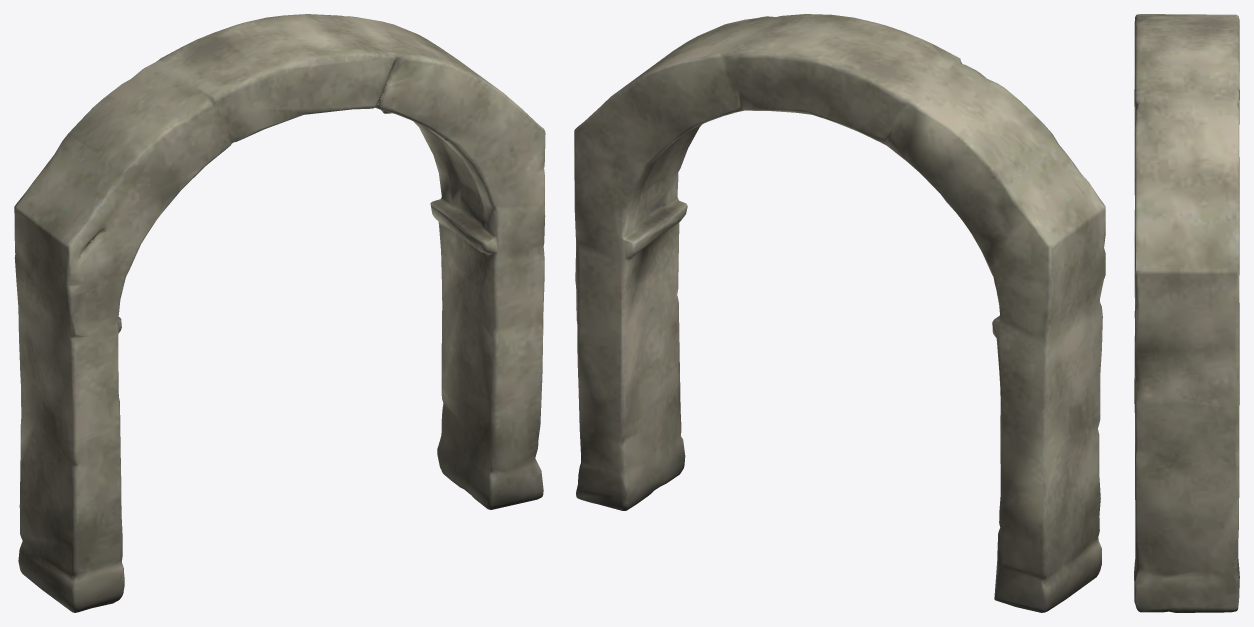
The model's file is chipped-limestone-street-arch-v001.glb.
3 views of the same model, side by side, from view 1: azimuth 30°, elevation 25°; view 2: azimuth 150°, elevation 25°; view 3: azimuth 270°, elevation 25° (orthographic). The views are drawn at different scales.
Parts seen in each view (by area): view 1: chipped-limestone-street-arch; view 2: chipped-limestone-street-arch; view 3: chipped-limestone-street-arch.
Boxes of the visible parts, x1,y1,x2,y2 form: chipped-limestone-street-arch: (14,14,545,612); chipped-limestone-street-arch: (574,14,1105,612); chipped-limestone-street-arch: (1134,14,1239,612).
Bounding box in the file's own units: 3.55 × 3.56 × 0.7361.
Materials: 1 (1 with a texture image).
